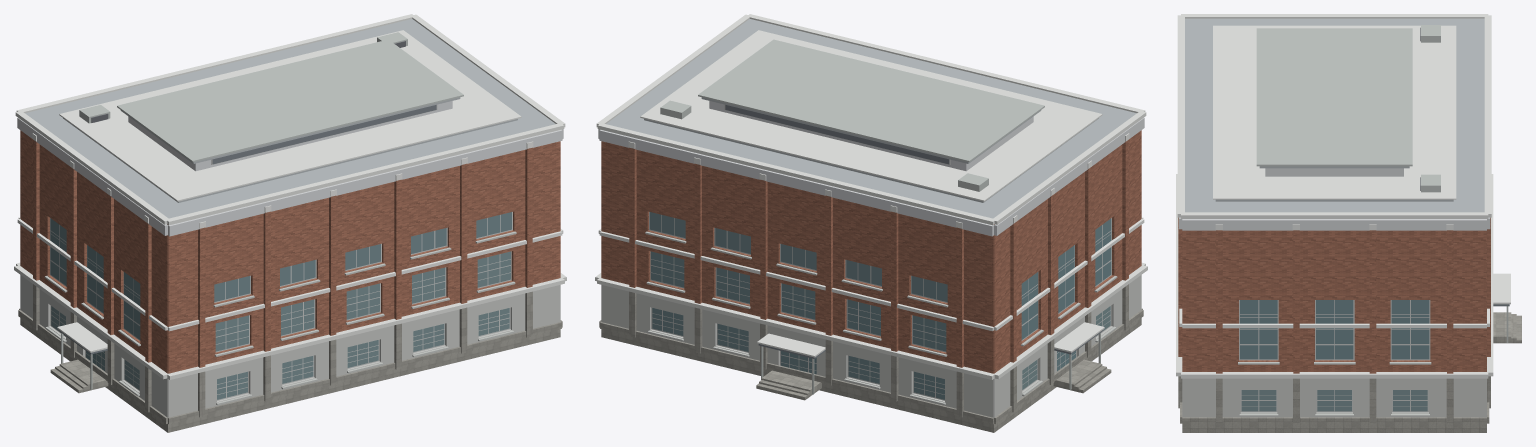
3 views of the same model, side by side, from view 1: azimuth 30°, elevation 25°; view 2: azimuth 150°, elevation 25°; view 3: azimuth 270°, elevation 25° (orthographic). The views are drawn at different scales.
Visible parts, largest first — view 1: gym-hall__brick, gym-hall__cap, gym-hall__steel, gym-hall__metalroof, gym-hall__basepaint, gym-hall__stone, gym-hall__sideglass, gym-hall__panel, gym-hall__frame, gym-hall__clerestoryglass, gym-hall__band, gym-hall__glass (+3 smaller); view 2: gym-hall__brick, gym-hall__cap, gym-hall__steel, gym-hall__metalroof, gym-hall__basepaint, gym-hall__glass, gym-hall__stone, gym-hall__panel, gym-hall__frame, gym-hall__clerestoryglass, gym-hall__band, gym-hall__sill (+4 smaller); view 3: gym-hall__brick, gym-hall__cap, gym-hall__steel, gym-hall__metalroof, gym-hall__basepaint, gym-hall__stone, gym-hall__glass, gym-hall__panel, gym-hall__frame, gym-hall__sideglass, gym-hall__band, gym-hall__sill (+2 smaller).
Part boxes in pixels (x1,y1,x2,y2): gym-hall__brick: (20, 130, 560, 373); gym-hall__cap: (14, 14, 566, 379); gym-hall__steel: (61, 32, 463, 389); gym-hall__metalroof: (25, 19, 555, 218); gym-hall__basepaint: (20, 275, 560, 417); gym-hall__stone: (18, 284, 562, 432); gym-hall__sideglass: (51, 251, 510, 399); gym-hall__panel: (17, 101, 563, 236); gym-hall__frame: (50, 104, 512, 400); gym-hall__clerestoryglass: (214, 212, 511, 301); gym-hall__band: (17, 133, 563, 331); gym-hall__glass: (50, 218, 140, 371); gym-hall__brick: (601, 130, 1141, 373); gym-hall__cap: (595, 14, 1147, 379); gym-hall__steel: (660, 39, 1100, 394); gym-hall__metalroof: (606, 19, 1136, 218); gym-hall__basepaint: (601, 275, 1141, 417); gym-hall__glass: (651, 218, 1111, 399); gym-hall__stone: (599, 284, 1143, 432); gym-hall__panel: (598, 101, 1144, 236); gym-hall__frame: (649, 104, 1111, 400); gym-hall__clerestoryglass: (650, 212, 947, 301); gym-hall__band: (598, 133, 1144, 331); gym-hall__sill: (645, 231, 1117, 405); gym-hall__brick: (1178, 217, 1490, 373); gym-hall__cap: (1176, 14, 1510, 378); gym-hall__steel: (1256, 25, 1508, 342); gym-hall__metalroof: (1185, 18, 1484, 212); gym-hall__basepaint: (1182, 378, 1486, 417); gym-hall__stone: (1178, 376, 1490, 432); gym-hall__glass: (1240, 300, 1429, 359); gym-hall__panel: (1179, 168, 1490, 230); gym-hall__frame: (1239, 300, 1430, 412); gym-hall__sideglass: (1241, 390, 1427, 411); gym-hall__band: (1179, 224, 1489, 328); gym-hall__sill: (1238, 362, 1431, 416).
Size of the model in its own units: 35.92 by 18.52 by 24.42.
16 materials, 2 textured.
